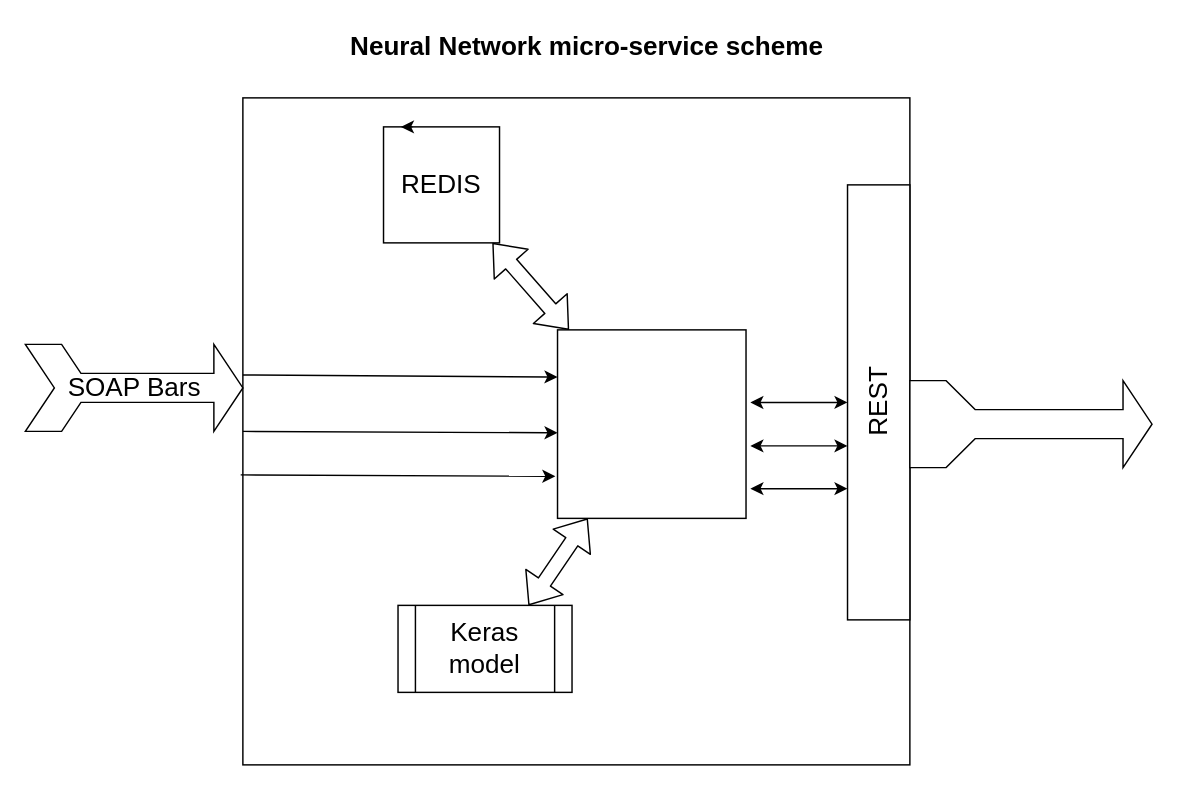
Some shapes in this 1177 by 790 pixel diagram are drawn without their labels. The centre of each missing label's shape, as x and y in pixels:
"Django" goes at pixel 651 423.
"Predict" goes at pixel 1030 423.
